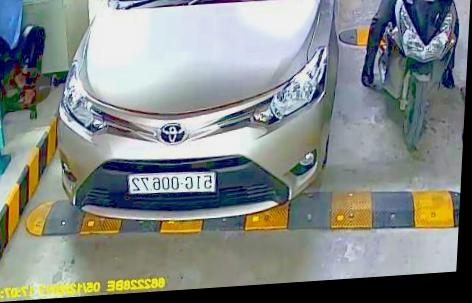License_Plate: (126, 165, 223, 200)
